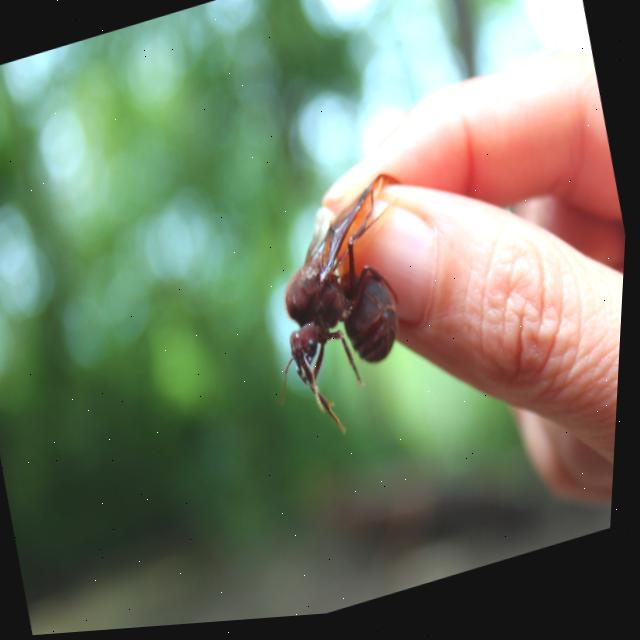Alive-Female-Alate: (237, 169, 458, 459)
